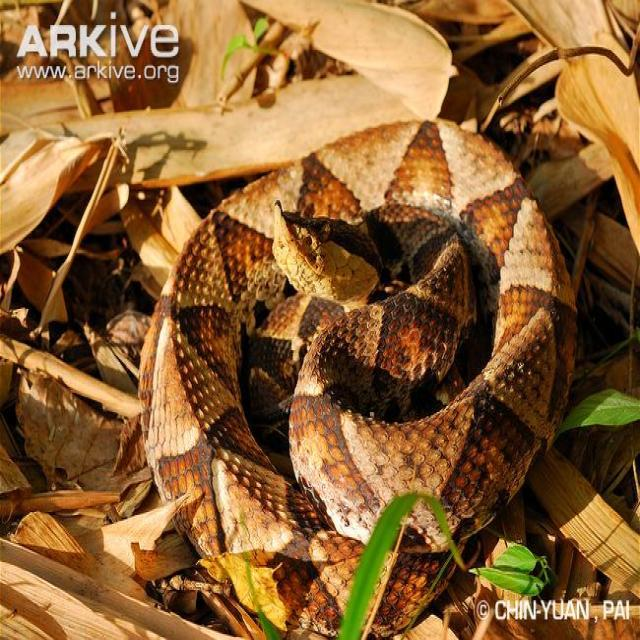Snake: (136, 115, 577, 638)
